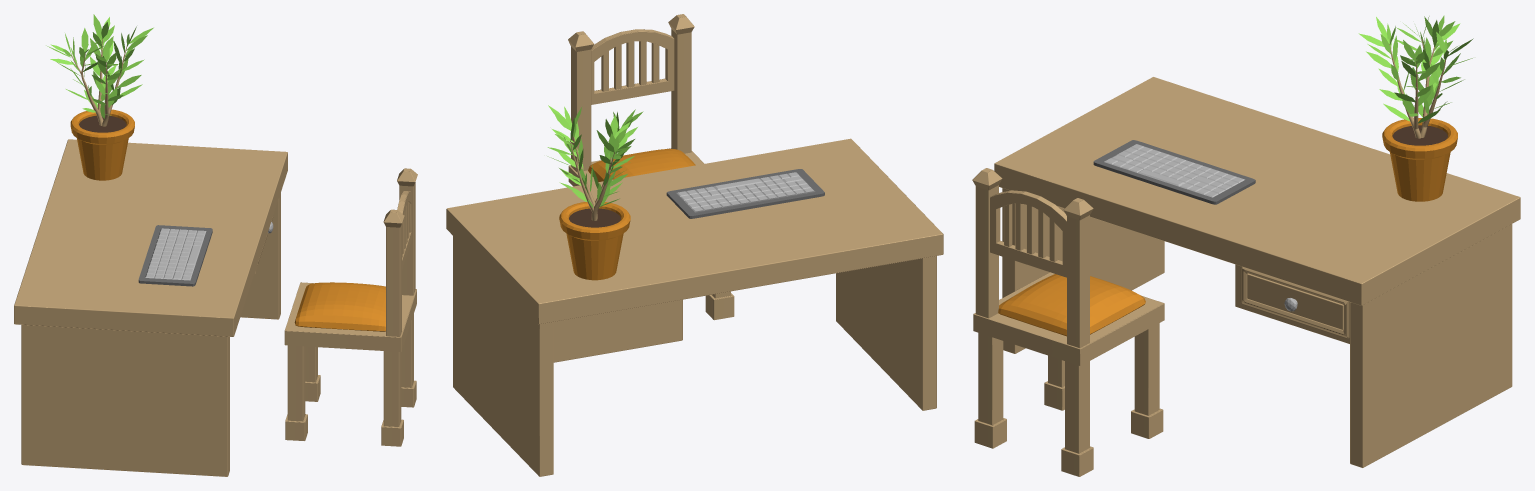
Rendered from desck.glb.
3 renders of one model, left to right at view 1: azimuth 30°, elevation 25°; view 2: azimuth 150°, elevation 25°; view 3: azimuth 270°, elevation 25°, orthographic. The views are drawn at different scales.
Parts seen in each view (by area): view 1: Table, Chair, Plant, Keyboard; view 2: Table, Chair, Plant, Keyboard; view 3: Table, Chair, Plant, Keyboard.
Boxes of the visible parts, x1,y1,x2,y2 form: Table: (14, 139, 287, 476); Chair: (284, 168, 417, 446); Plant: (46, 14, 153, 180); Keyboard: (138, 225, 212, 286); Table: (446, 138, 943, 476); Chair: (568, 14, 734, 320); Plant: (547, 105, 643, 280); Keyboard: (666, 169, 824, 218); Table: (994, 77, 1520, 467); Chair: (972, 168, 1164, 476); Plant: (1358, 15, 1473, 201); Keyboard: (1093, 140, 1255, 204).
Bounding box in the file's own units: 0.2725 × 0.2145 × 0.2969.
